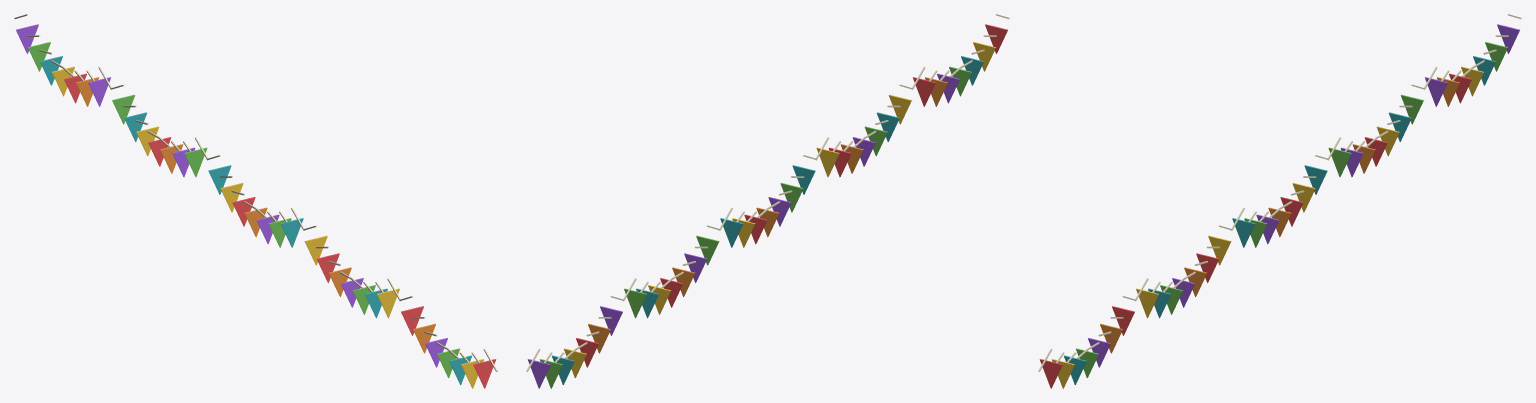
File: ShipBunting.glb
3 renders of one model, left to right at view 1: azimuth 30°, elevation 25°; view 2: azimuth 150°, elevation 25°; view 3: azimuth 330°, elevation 25°, orthographic.
Visible parts, largest first — view 1: ShipBunting; view 2: ShipBunting; view 3: ShipBunting.
Boxes of the visible parts, box(x1,y1,x2,y2) form: ShipBunting: box(14, 14, 497, 388); ShipBunting: box(526, 14, 1009, 388); ShipBunting: box(1038, 14, 1521, 388).
Size of the model in its own units: 0.46 by 1.09 by 17.03.
